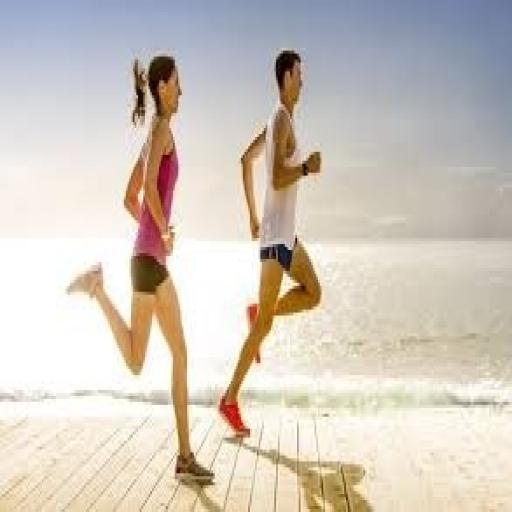running: (64, 51, 216, 488), (217, 44, 325, 440)
